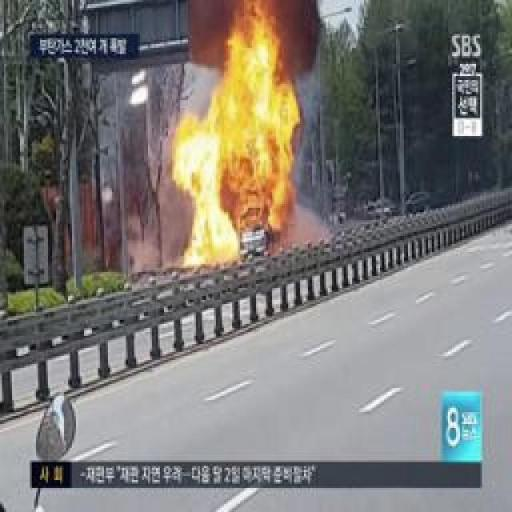smoke: (175, 102, 293, 264), (220, 20, 284, 93)
